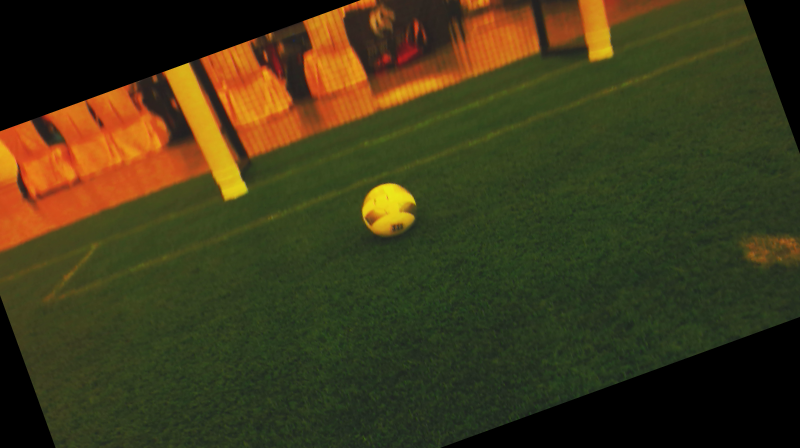post: (570, 15, 632, 73), (200, 148, 254, 212)
